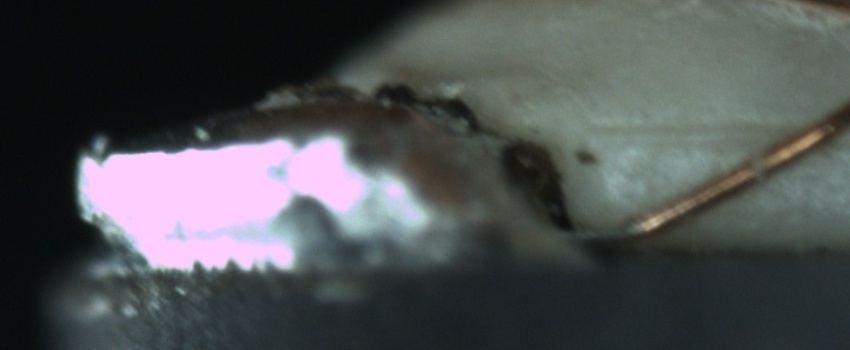DL: (605, 92, 842, 168)
